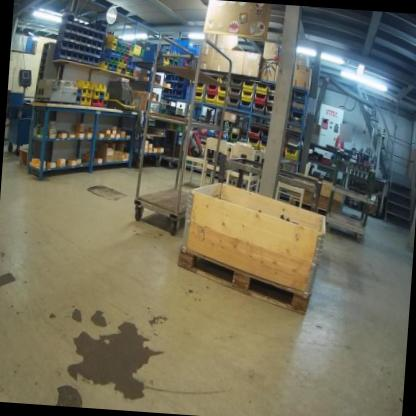pallet: (170, 243, 315, 319), (288, 197, 328, 218)
